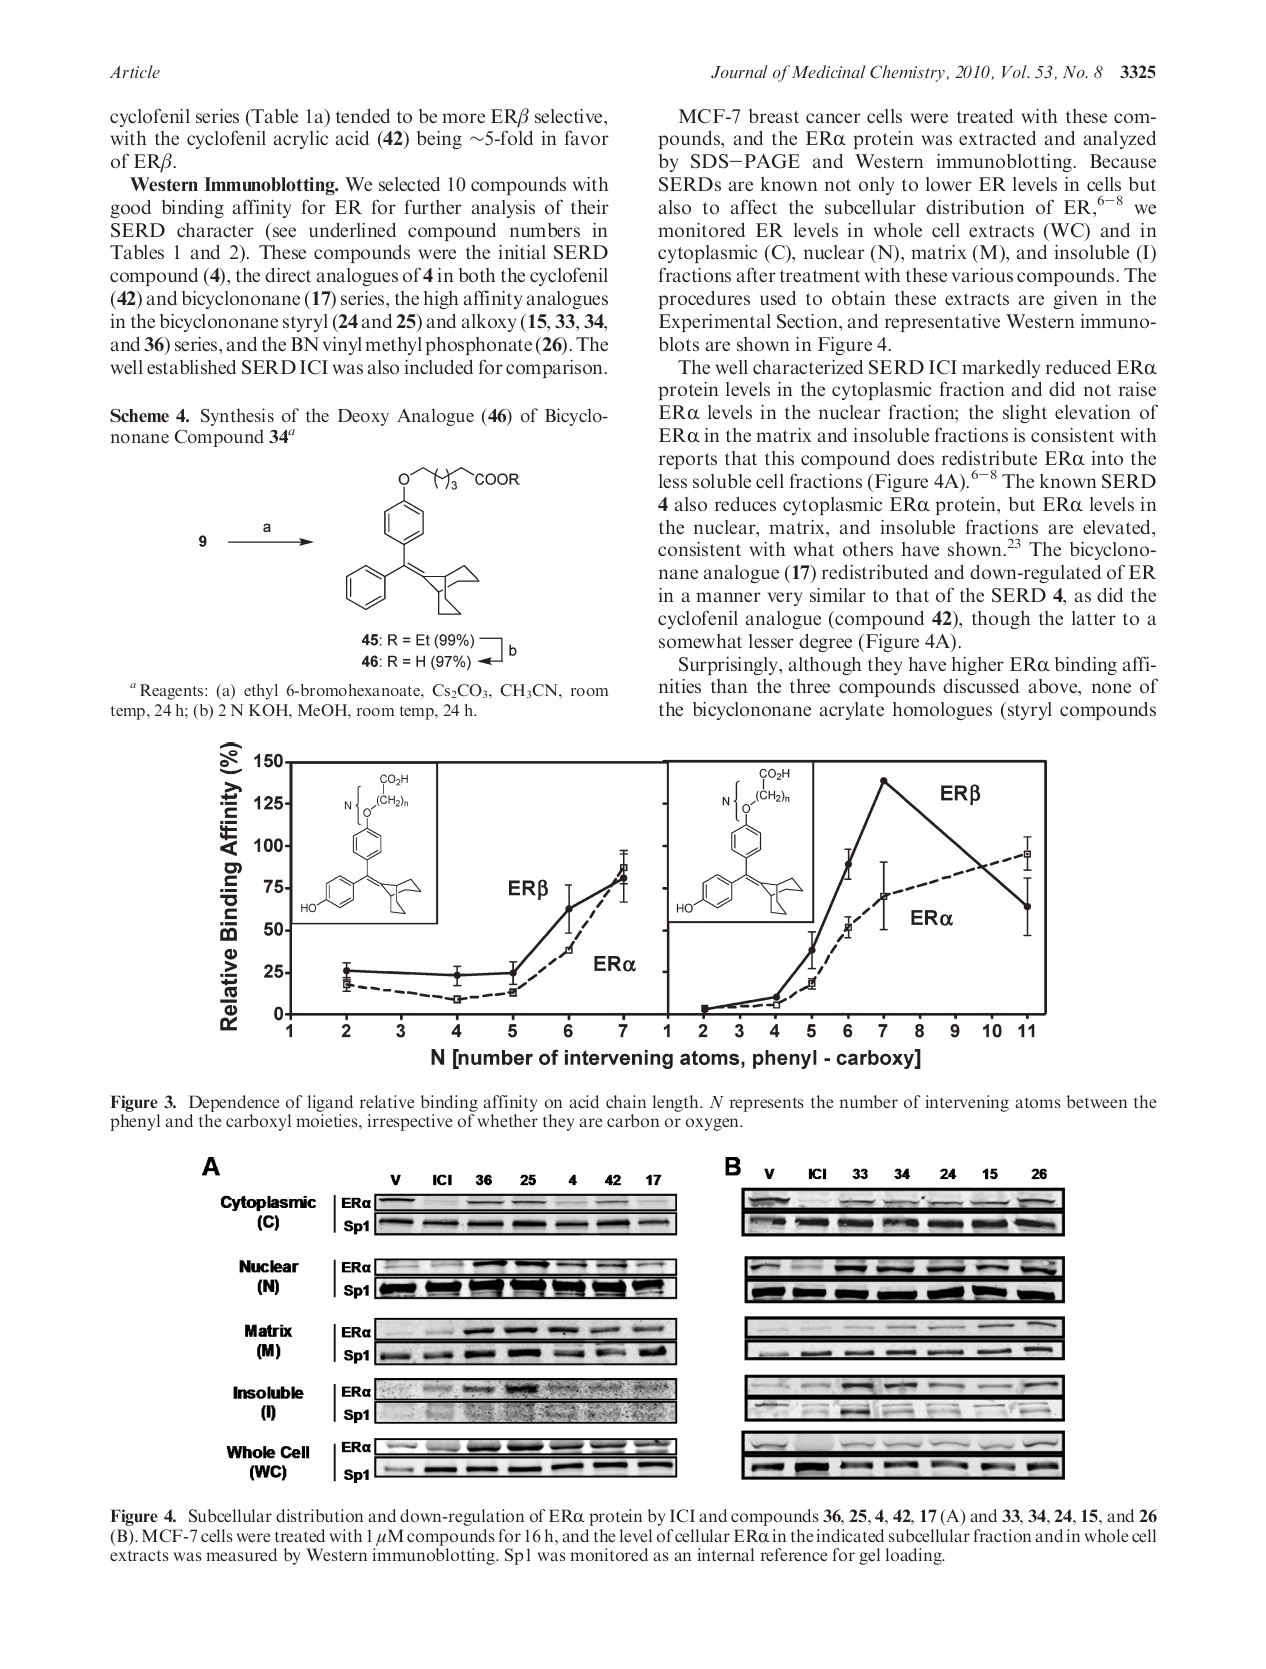exist_molecular: (344, 463, 520, 621), (669, 765, 805, 919), (293, 767, 423, 922)
